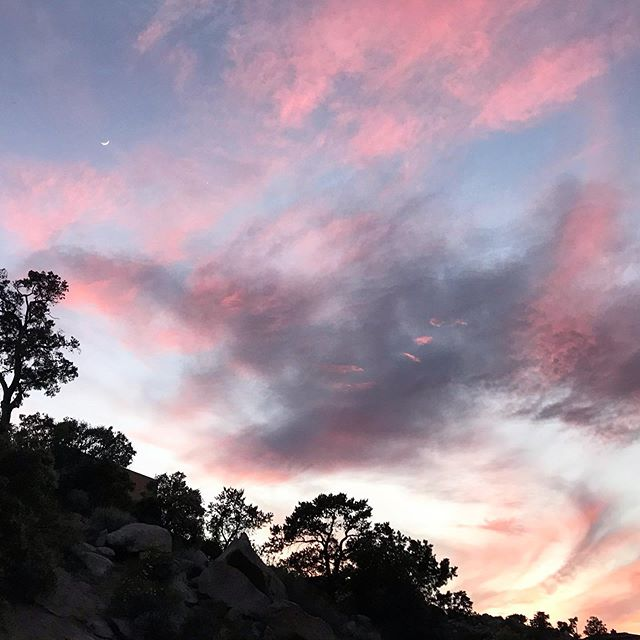sky: (13, 2, 638, 568)
tree: (248, 493, 462, 608), (1, 262, 77, 437)
